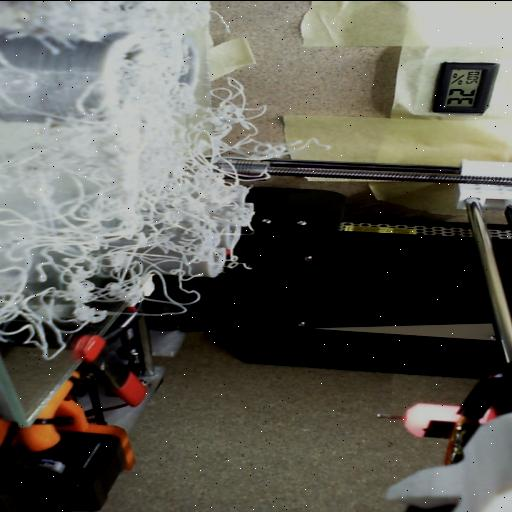spaghetti: (0, 0, 336, 354)
